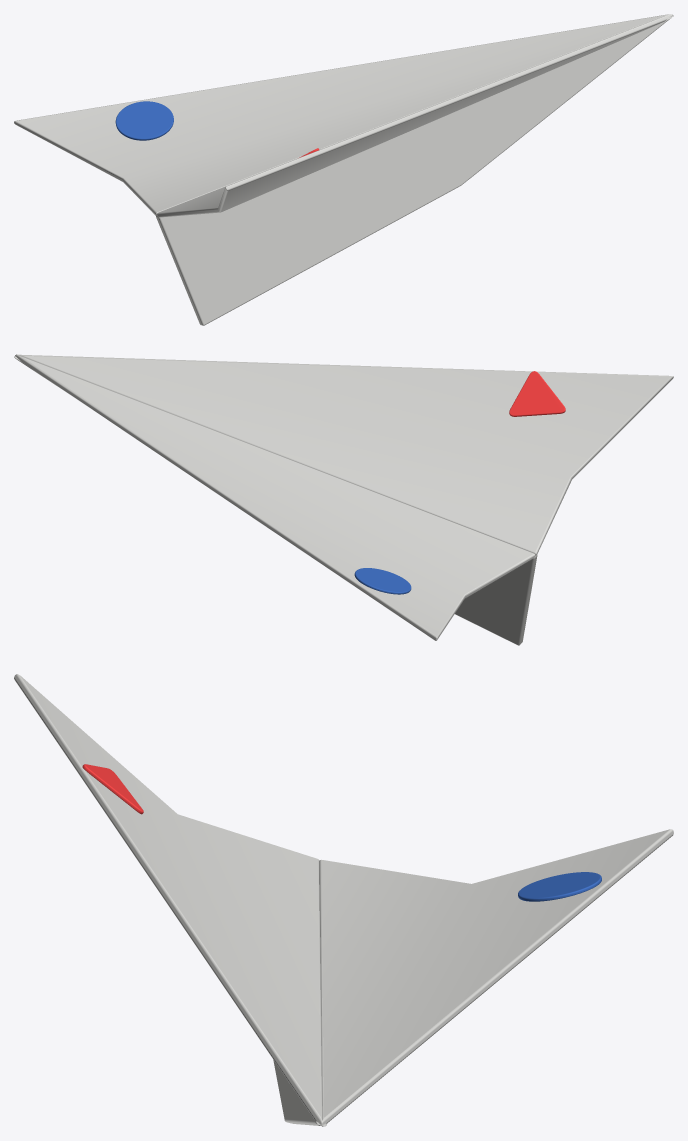
File: paper-plane.glb
The picture shows the model from 3 angles, top to bottom: view 1: azimuth 30°, elevation 25°; view 2: azimuth 150°, elevation 25°; view 3: azimuth 270°, elevation 25°; orthographic projection. The views are drawn at different scales.
Visible parts, largest first — view 1: wing_left, keel, wing_right, sticker_q; view 2: wing_right, wing_left, keel, sticker_hunch, sticker_q; view 3: wing_left, wing_right, sticker_q, keel, sticker_hunch.
Part boxes in pixels (x1=…): wing_left: x1=14, y1=14, x2=668, y2=215; keel: x1=156, y1=15, x2=673, y2=325; wing_right: x1=157, y1=14, x2=672, y2=217; sticker_q: x1=115, y1=101, x2=173, y2=140; wing_right: x1=16, y1=354, x2=673, y2=555; wing_left: x1=15, y1=355, x2=535, y2=640; keel: x1=14, y1=354, x2=537, y2=645; sticker_hunch: x1=509, y1=371, x2=565, y2=416; sticker_q: x1=354, y1=568, x2=411, y2=594; wing_left: x1=319, y1=829, x2=673, y2=1126; wing_right: x1=14, y1=674, x2=322, y2=1125; sticker_q: x1=518, y1=872, x2=601, y2=901; keel: x1=273, y1=1060, x2=326, y2=1126; sticker_hunch: x1=82, y1=764, x2=143, y2=814.
Size of the model in its own units: 0.3161 by 0.1199 by 0.223.
